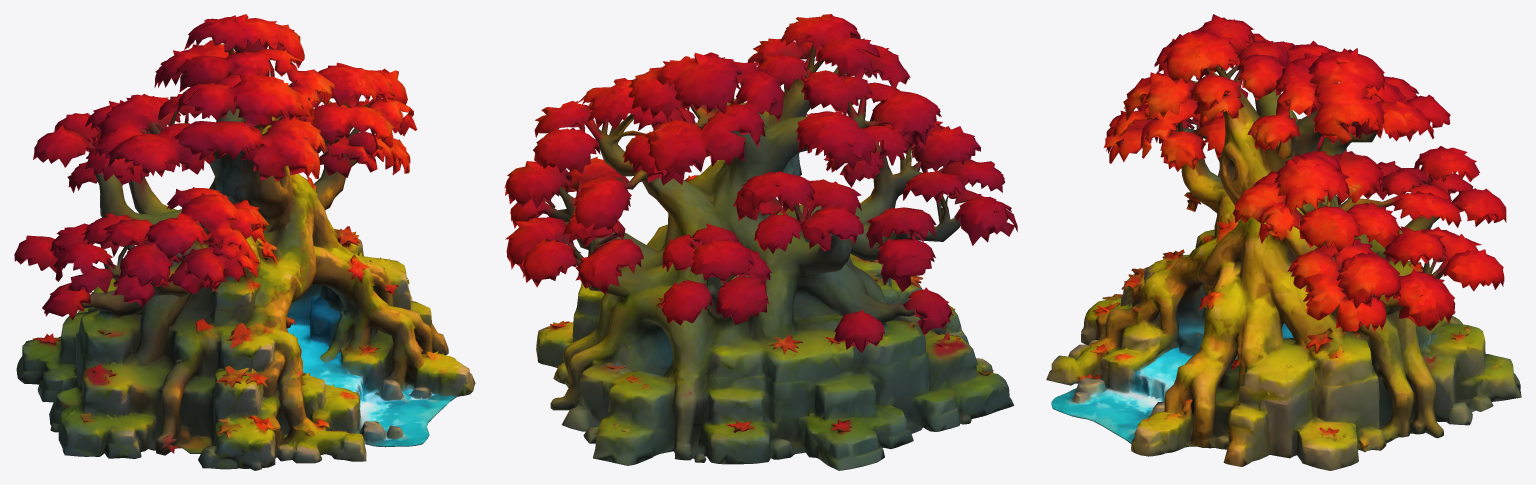
Rendered from magical tree 3d model.glb.
3 views of the same model, side by side, from view 1: azimuth 30°, elevation 25°; view 2: azimuth 150°, elevation 25°; view 3: azimuth 270°, elevation 25° (orthographic). The views are drawn at different scales.
Parts seen in each view (by area): view 1: tripo_node_e7d7782a-ed6f-4b5b-8ae2-f2e7aeee8d09; view 2: tripo_node_e7d7782a-ed6f-4b5b-8ae2-f2e7aeee8d09; view 3: tripo_node_e7d7782a-ed6f-4b5b-8ae2-f2e7aeee8d09.
Boxes of the visible parts, x1,y1,x2,y2 form: tripo_node_e7d7782a-ed6f-4b5b-8ae2-f2e7aeee8d09: [14, 14, 475, 470]; tripo_node_e7d7782a-ed6f-4b5b-8ae2-f2e7aeee8d09: [504, 14, 1017, 470]; tripo_node_e7d7782a-ed6f-4b5b-8ae2-f2e7aeee8d09: [1046, 14, 1521, 470].
Size of the model in its own units: 1 by 0.7592 by 0.9803.
1 material, 1 textured.
